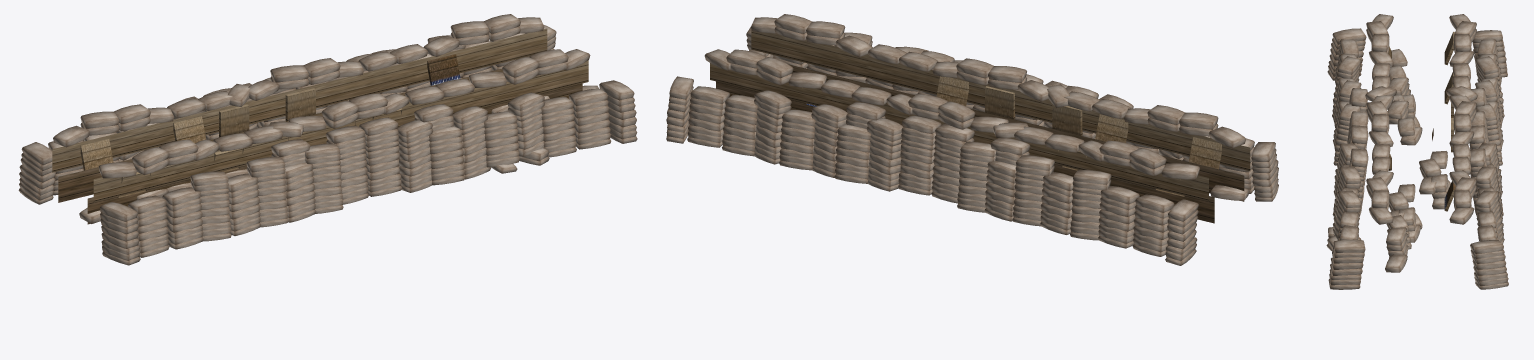
File: trin_wall_long.dae
3 renders of one model, left to right at view 1: azimuth 30°, elevation 25°; view 2: azimuth 150°, elevation 25°; view 3: azimuth 270°, elevation 25°, orthographic. The views are drawn at different scales.
Visible parts, largest first — view 1: trin_wall_long; view 2: trin_wall_long; view 3: trin_wall_long.
Part boxes in pixels (<box>): trin_wall_long: <box>18,14,637,265</box>; trin_wall_long: <box>666,14,1278,265</box>; trin_wall_long: <box>1326,14,1508,289</box>.
Bounding box in the file's own units: 35.15 × 13.63 × 9.86.
